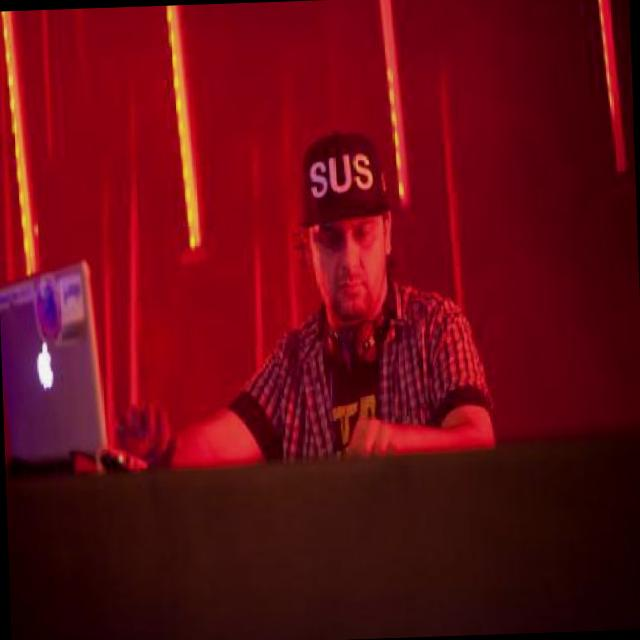Person: (100, 126, 504, 472)
